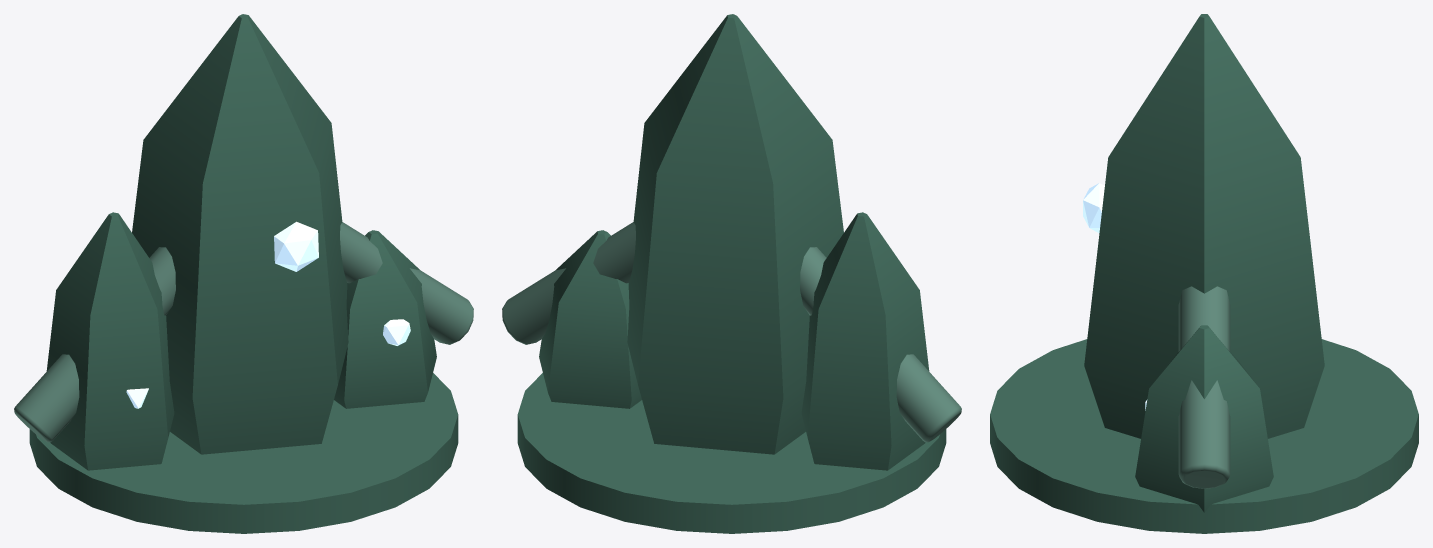
The picture shows the model from 3 angles, left to right: view 1: azimuth 30°, elevation 25°; view 2: azimuth 150°, elevation 25°; view 3: azimuth 270°, elevation 25°; orthographic projection.
Visible parts, largest first — view 1: Faceted crystal tower, Foundation drum, Faceted crystal tower.002, Faceted crystal tower.001, Crystal radial strut.001, Crystal radial strut, Central luminous node, Crystal luminous node; view 2: Faceted crystal tower, Foundation drum, Faceted crystal tower.002, Faceted crystal tower.001, Crystal radial strut.001, Crystal radial strut; view 3: Faceted crystal tower, Foundation drum, Faceted crystal tower.001, Crystal radial strut, Central luminous node.
Part boxes in pixels (bbox=[...]): Faceted crystal tower: bbox=[132, 14, 348, 454]; Foundation drum: bbox=[29, 373, 458, 533]; Faceted crystal tower.002: bbox=[46, 212, 174, 470]; Faceted crystal tower.001: bbox=[334, 230, 436, 408]; Crystal radial strut.001: bbox=[14, 247, 175, 442]; Crystal radial strut: bbox=[340, 222, 473, 344]; Central luminous node: bbox=[274, 221, 318, 271]; Crystal luminous node: bbox=[383, 319, 410, 345]; Faceted crystal tower: bbox=[627, 14, 843, 454]; Foundation drum: bbox=[517, 373, 946, 533]; Faceted crystal tower.002: bbox=[801, 212, 929, 470]; Faceted crystal tower.001: bbox=[539, 230, 641, 408]; Crystal radial strut.001: bbox=[800, 247, 961, 442]; Crystal radial strut: bbox=[502, 222, 635, 344]; Faceted crystal tower: bbox=[1084, 14, 1324, 438]; Foundation drum: bbox=[990, 339, 1418, 533]; Faceted crystal tower.001: bbox=[1135, 325, 1273, 512]; Crystal radial strut: bbox=[1178, 286, 1230, 488]; Central luminous node: bbox=[1083, 183, 1104, 232].
Size of the model in its own units: 2.43 by 2.2 by 2.
